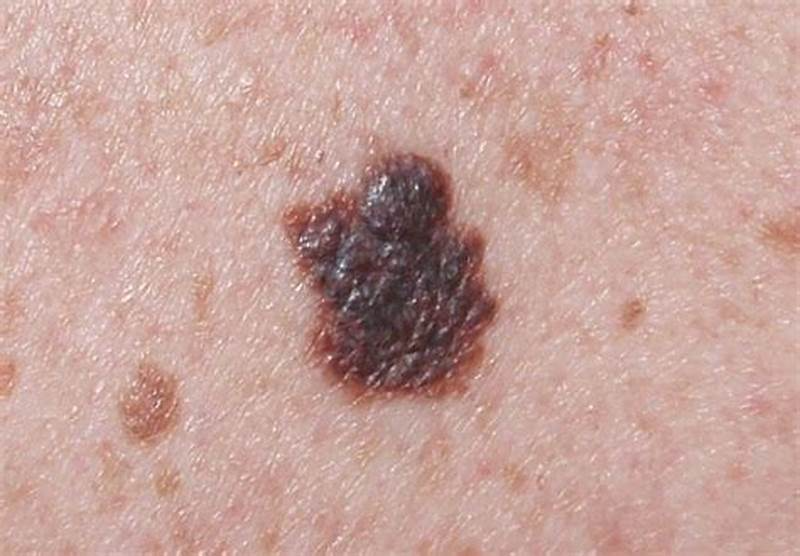Melanoma: (282, 154, 500, 404)
